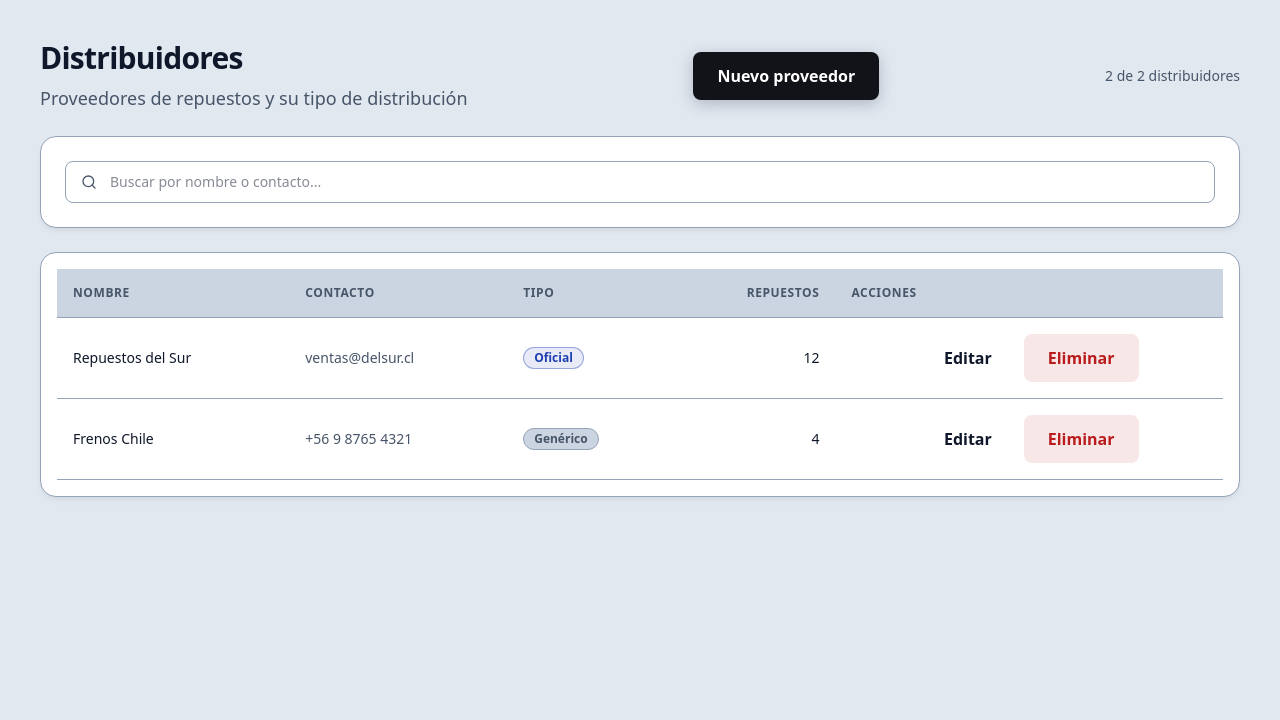
Test: AdminDistributorsPage: listado y estados › muestra el motivo del 409 al eliminar y conserva la confirmación
Expected: the text "Repuestos del Sur" is shown, [57, 318, 289, 398]
Step 1. Click the button "Eliminar" in the row of "Repuestos del Sur" → (1081, 358), box [1024, 334, 1139, 382]
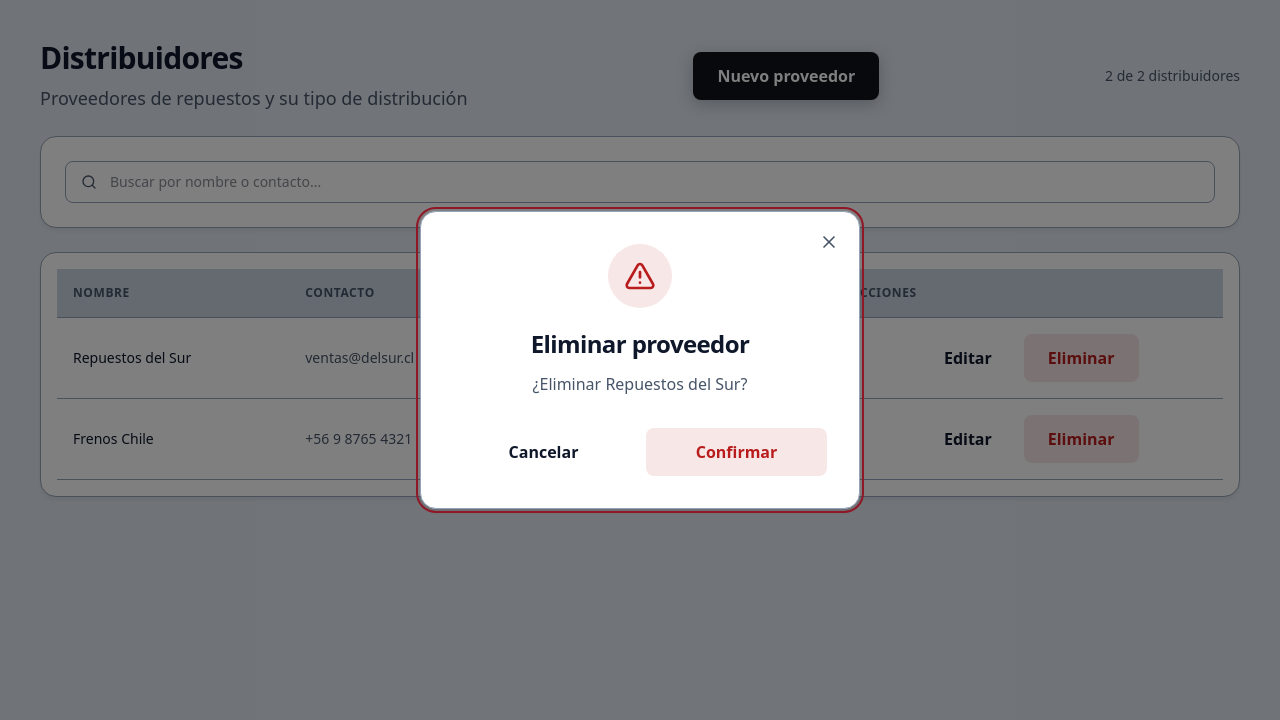
Step 2. Click the button "Confirmar" → (736, 452), box [646, 428, 827, 476]
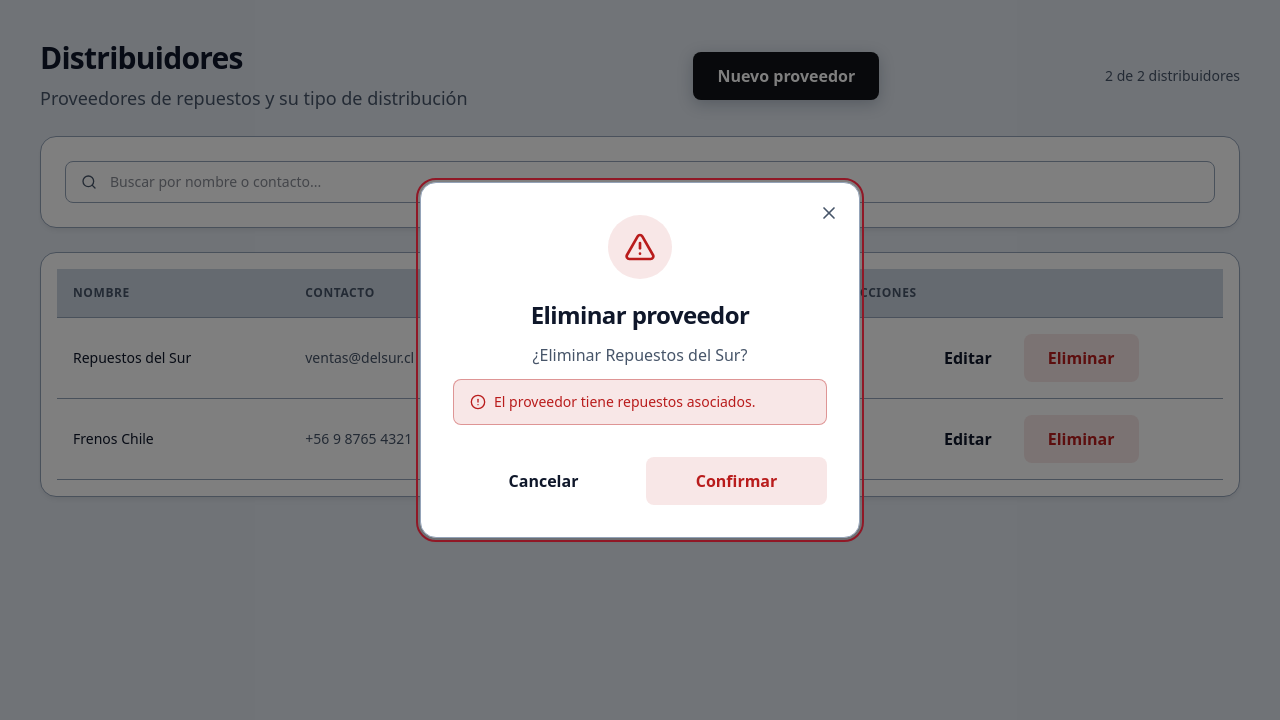
Result: the dialog "Eliminar proveedor" is shown at [420, 182, 860, 538]
Result: the text "El proveedor tiene repuestos asociados." is shown at [494, 392, 755, 412]
